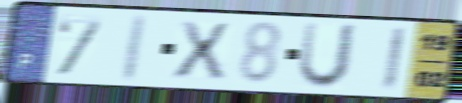7: (55, 12, 106, 78)
8: (236, 19, 285, 88)
I: (116, 12, 151, 84), (379, 25, 410, 93)
U: (294, 20, 361, 92)
X: (170, 19, 233, 81)
